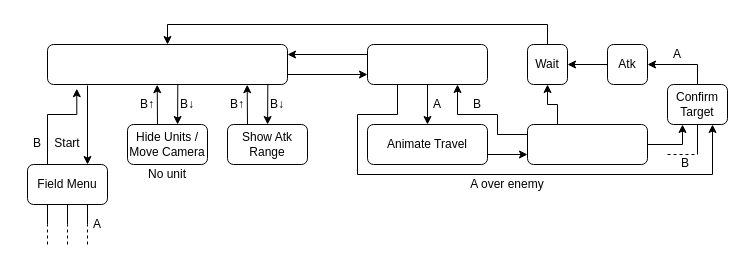
Some shapes in this 745 by 263 pixel diagram are drawn without their labels. Each missing label, with the centre of its shape:
"Command Menu" goes at (587,144).
"Idle" goes at (167,64).
"Move Select" goes at (427,64).
